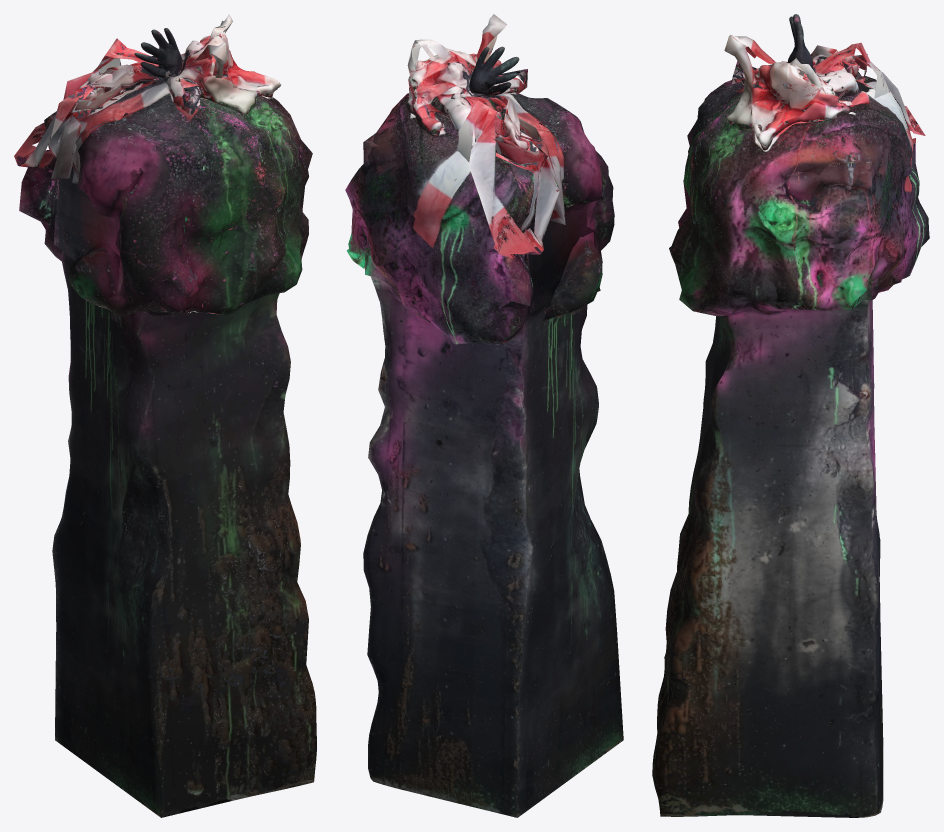
Rendered from Statue2_retopo_merged.glb.
The picture shows the model from 3 angles, left to right: view 1: azimuth 30°, elevation 25°; view 2: azimuth 150°, elevation 25°; view 3: azimuth 270°, elevation 25°; orthographic projection. The views are drawn at different scales.
Parts seen in each view (by area): view 1: Cube; view 2: Cube; view 3: Cube.
Part boxes in pixels (bbox=[...]): Cube: bbox=[14, 14, 316, 817]; Cube: bbox=[345, 14, 623, 817]; Cube: bbox=[652, 14, 929, 817].
Size of the model in its own units: 0.6323 by 1.91 by 0.6364.
1 material, 1 textured.
